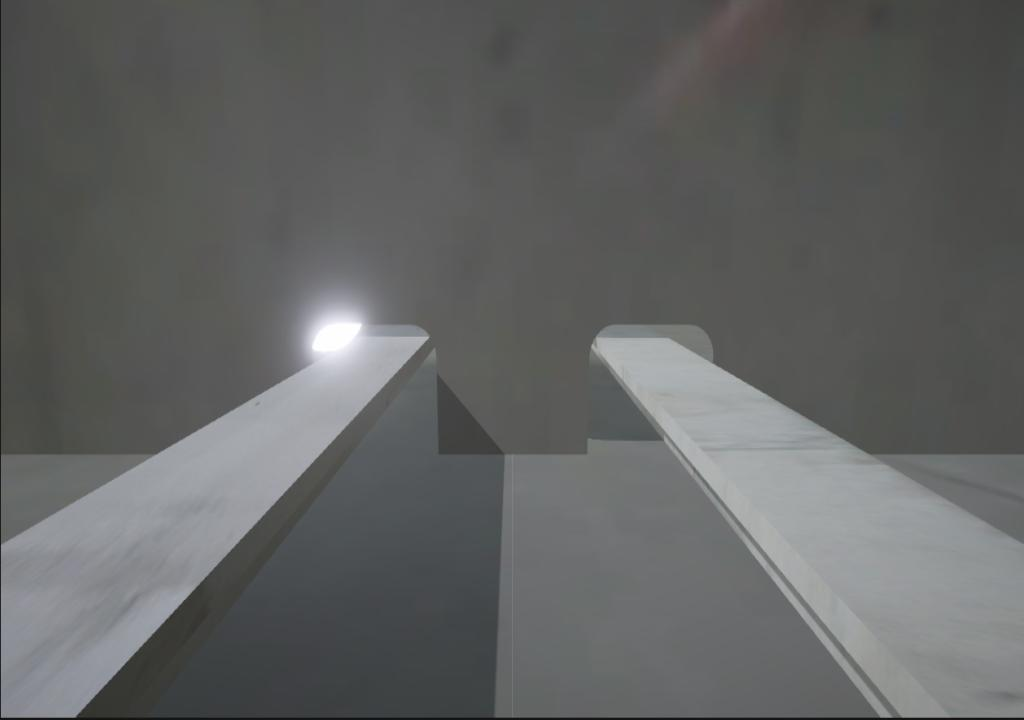fillet_yong_jeop_jang: (427, 444, 599, 471)
